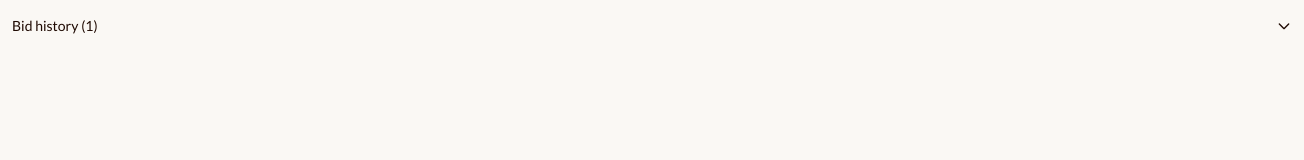
Test: BidHistory › expanded state › shows retracted bids with strikethrough and label
What coordinates should you click on to do the following:
click the button "Bid history (1)"
I would click on:
 (45, 26)
Its box is [12, 16, 1292, 36].
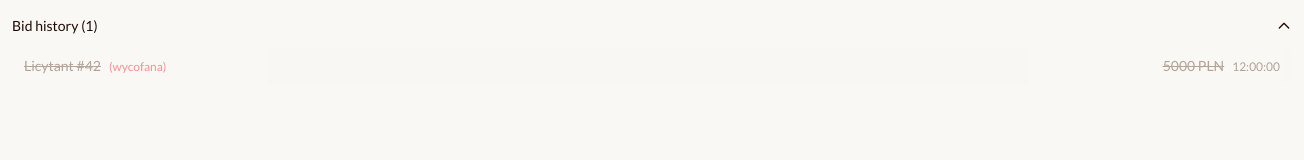
Result: the text "(wycofana)" is shown at [109, 59, 166, 74]
